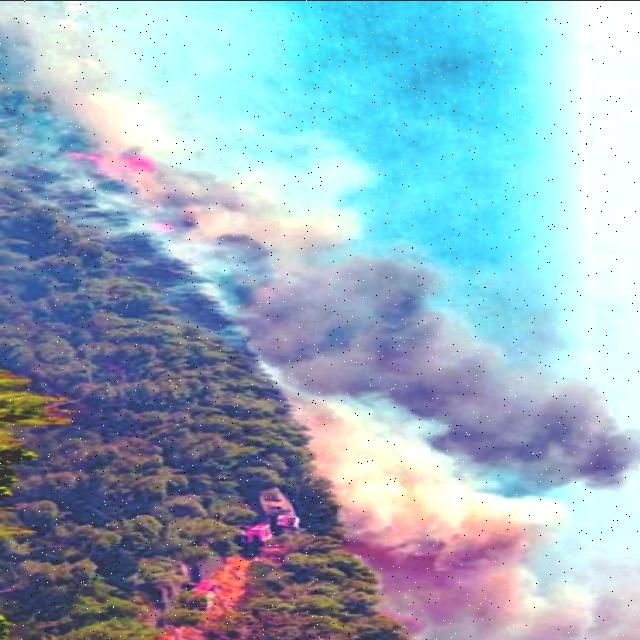asap: (279, 217, 631, 479), (340, 477, 633, 639), (96, 104, 412, 237), (210, 229, 304, 336)
